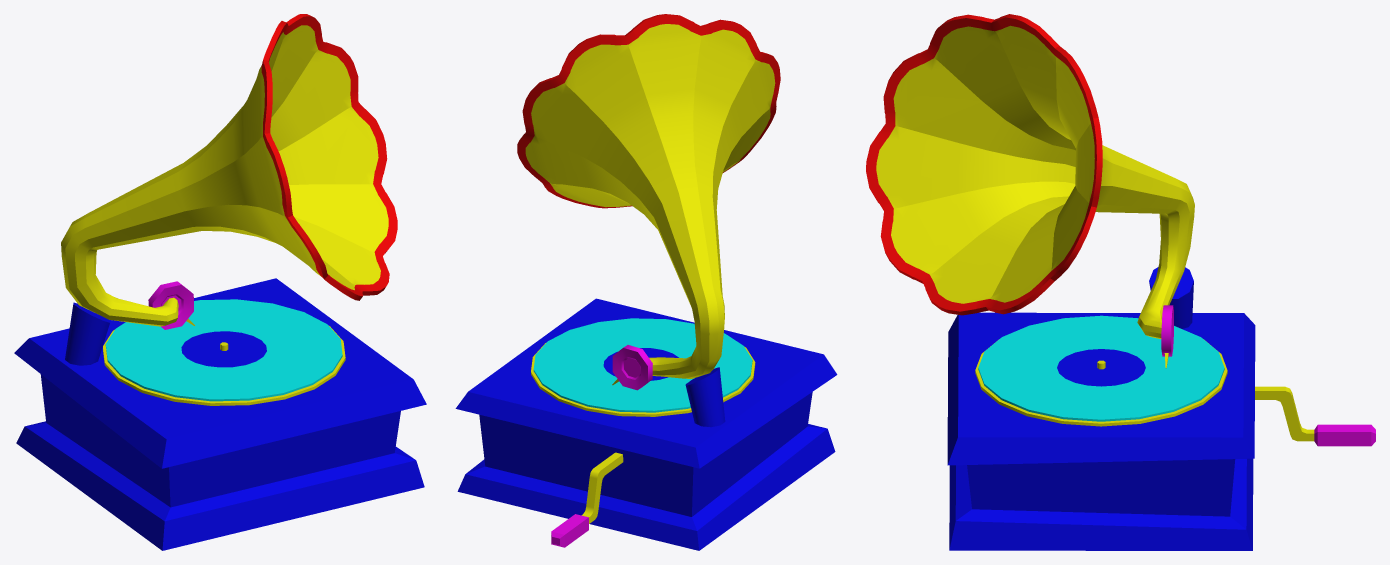
File: LivingRoom_VinylPlayer.fbx
3 views of the same model, side by side, from view 1: azimuth 30°, elevation 25°; view 2: azimuth 150°, elevation 25°; view 3: azimuth 270°, elevation 25° (orthographic). The views are drawn at different scales.
Visible parts, largest first — view 1: LivingRoom_VinylPlayer; view 2: LivingRoom_VinylPlayer; view 3: LivingRoom_VinylPlayer.
Part boxes in pixels (x1,y1,x2,y2): LivingRoom_VinylPlayer: (14, 14, 426, 550); LivingRoom_VinylPlayer: (455, 14, 837, 550); LivingRoom_VinylPlayer: (866, 14, 1375, 550).
Bounding box in the file's own units: 72.73 × 113 × 110.
